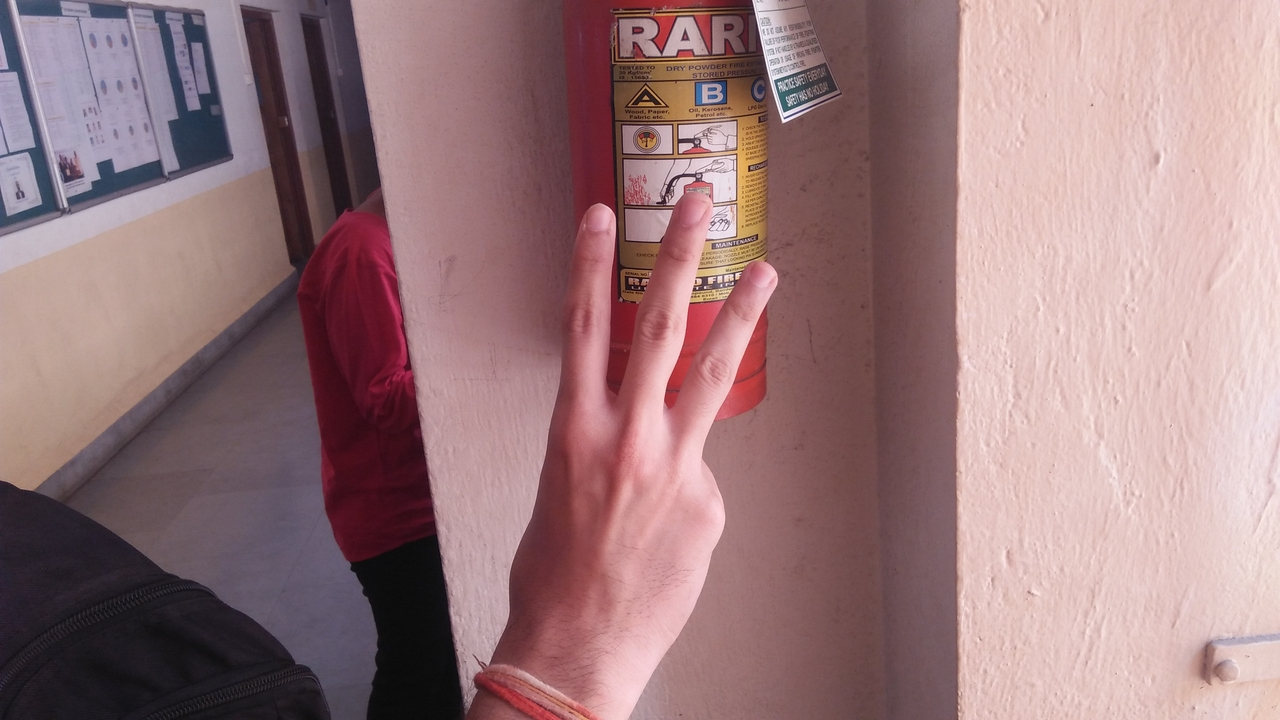fingertip: (728, 250, 786, 304), (666, 176, 716, 232), (568, 194, 622, 244)
